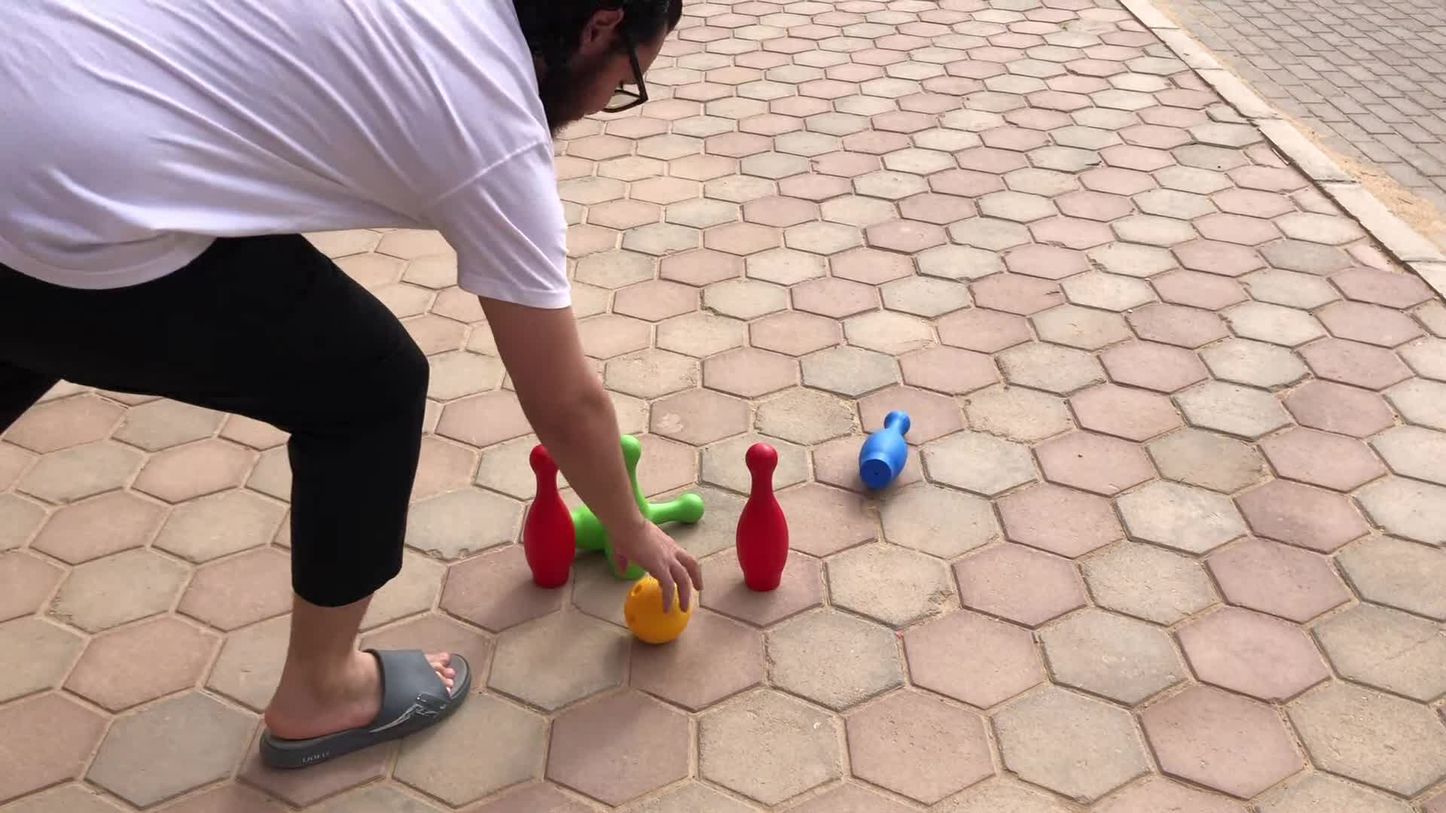pin: (737, 442, 789, 592), (524, 448, 575, 586), (861, 412, 914, 490)
